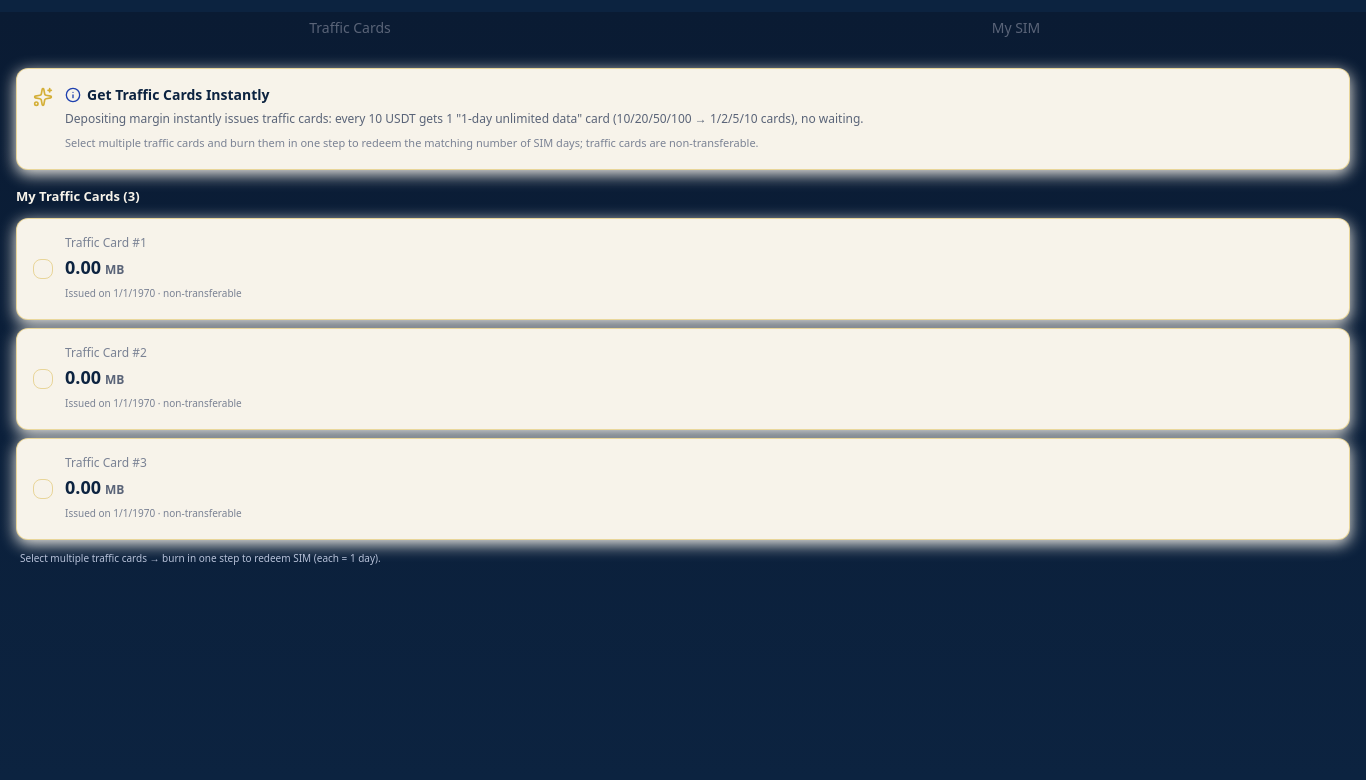
Cards 页 — 流量卡多选销毁领 SIM › CARD-06: < 3 张时禁用并提示门槛，选满 3 张后可点
Expected: the text "and redeem SIM" is not shown
Click the text "Traffic Card #1" at (106, 242), box [65,234,147,250]
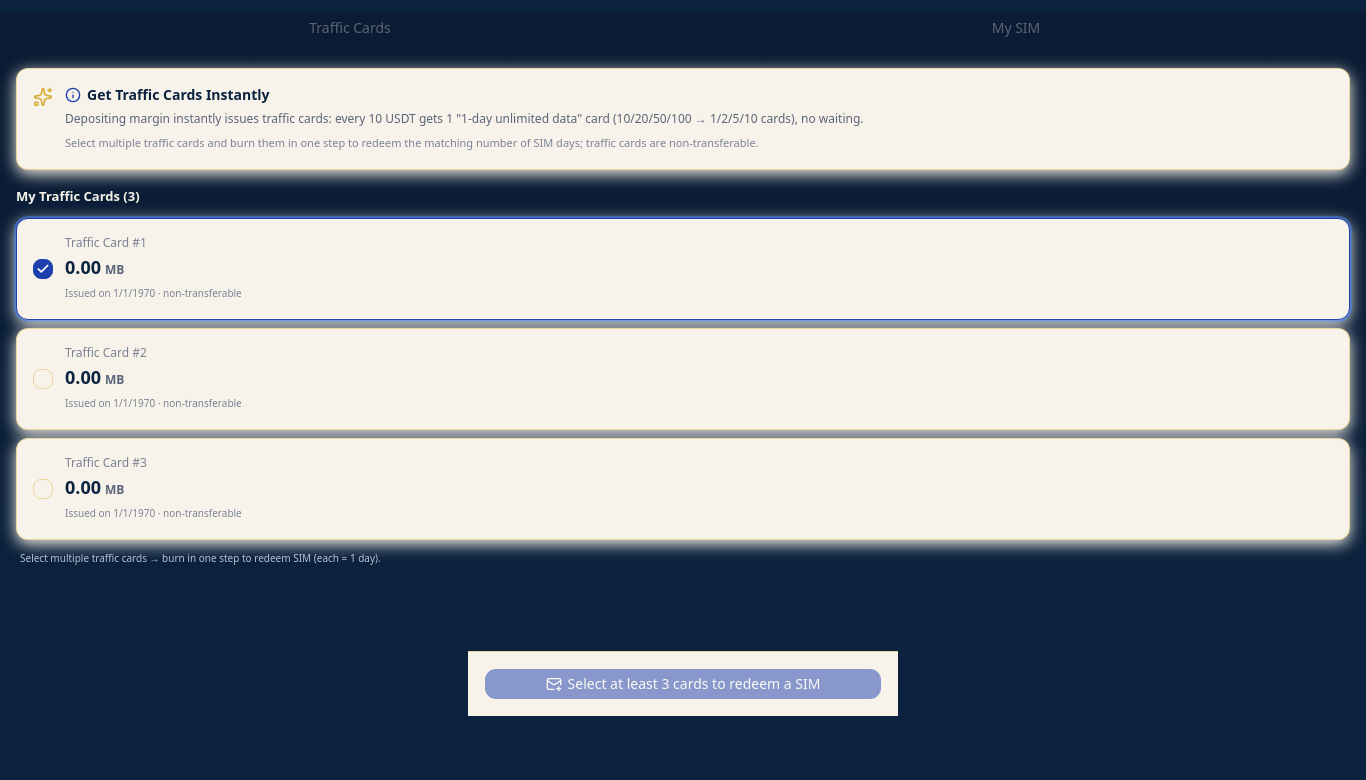
Click the text "Traffic Card #3" at (106, 462), box [65,454,147,470]
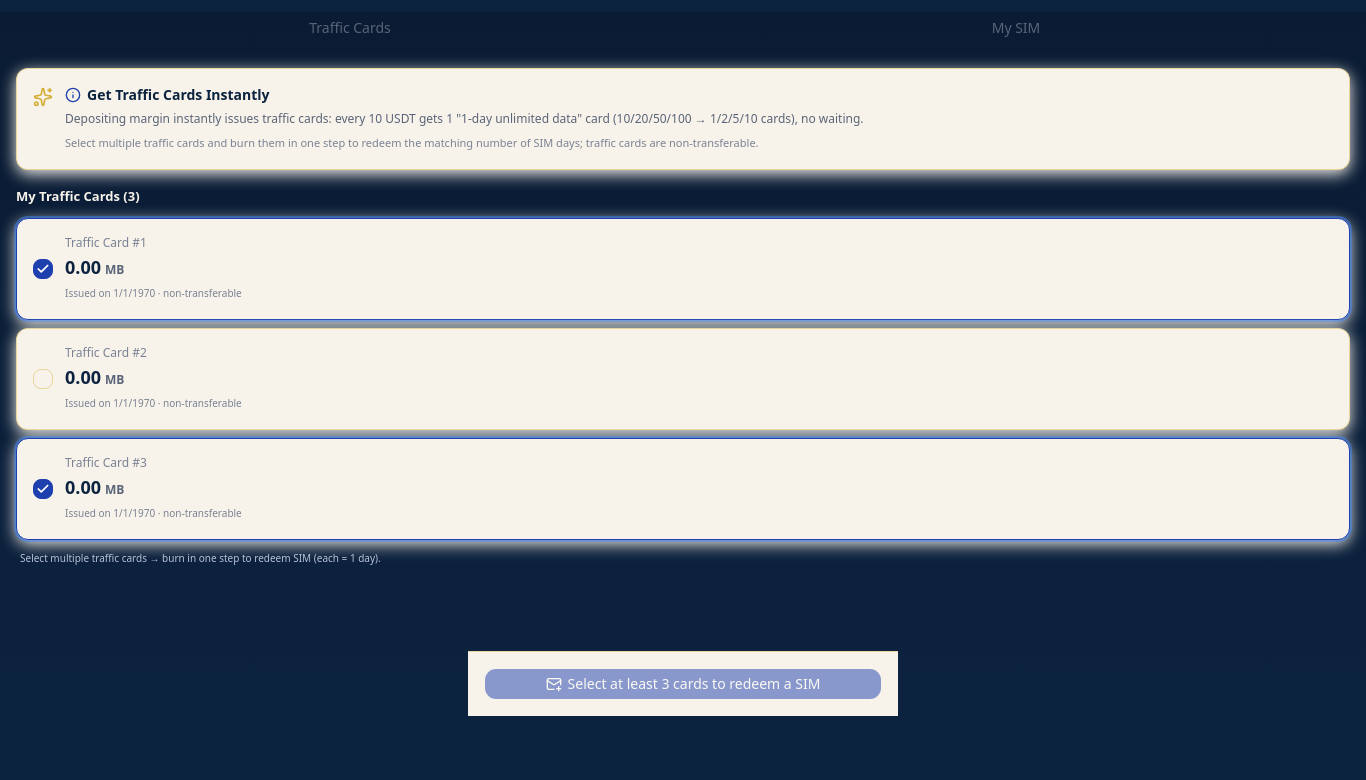
Expected: the button "Select at least 3 cards to redeem a SIM" is disabled, [484,668,882,700]
Click the text "Traffic Card #2" at (106, 352), box [65,344,147,360]
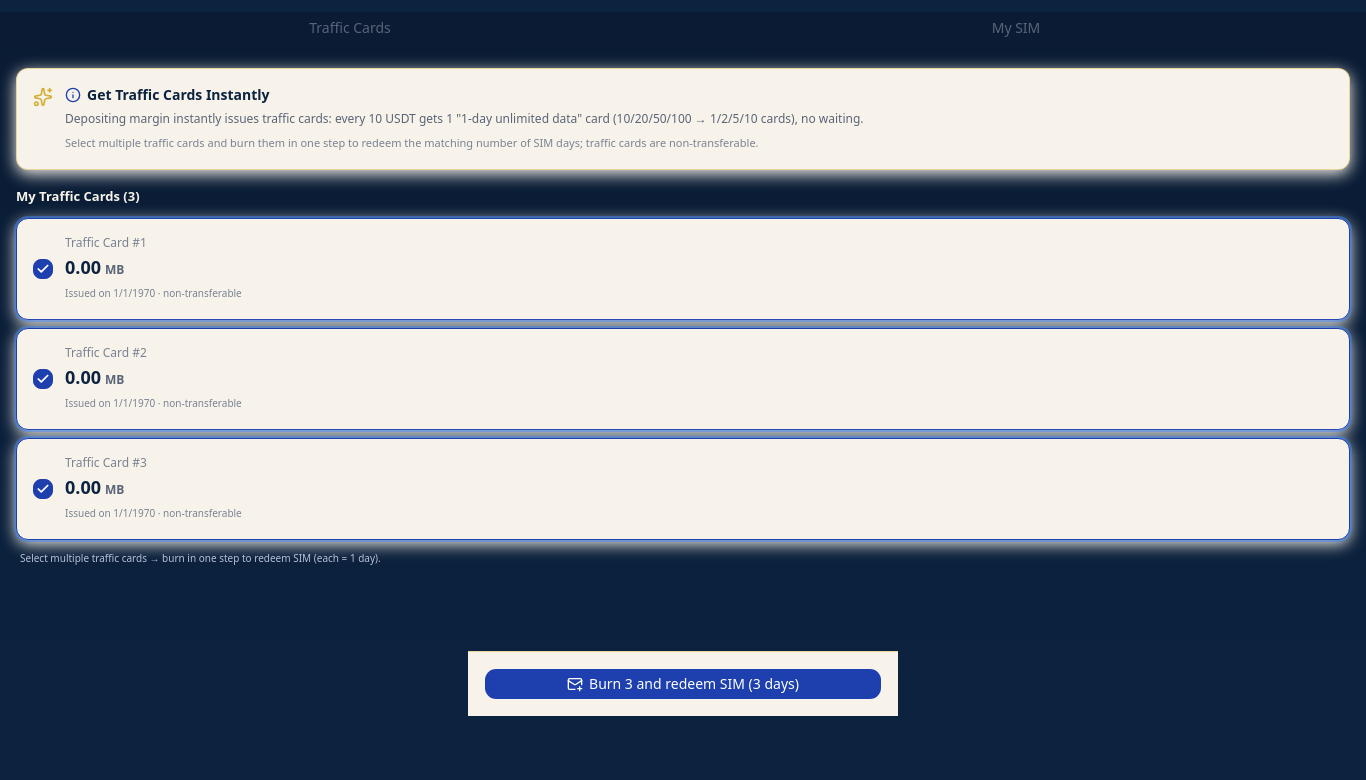
Expected: the button "Burn 3 and redeem SIM (3 days)" is enabled, [484,668,882,700]
